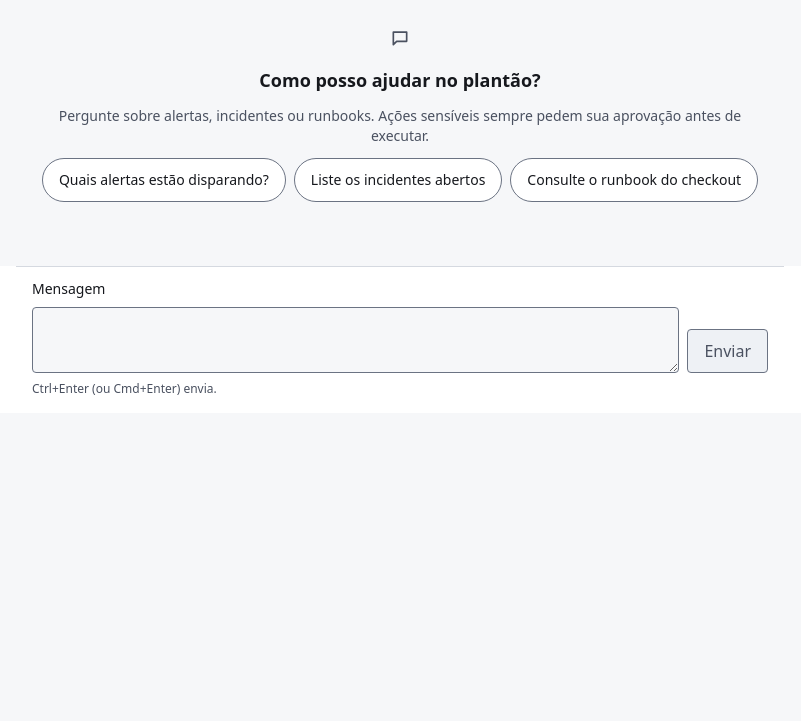
ApprovalCard › 409 already decided shows the final state without buttons
In the text box labelled "Mensagem": (356, 340) [32,307,679,373], type "resolva o inc-1"
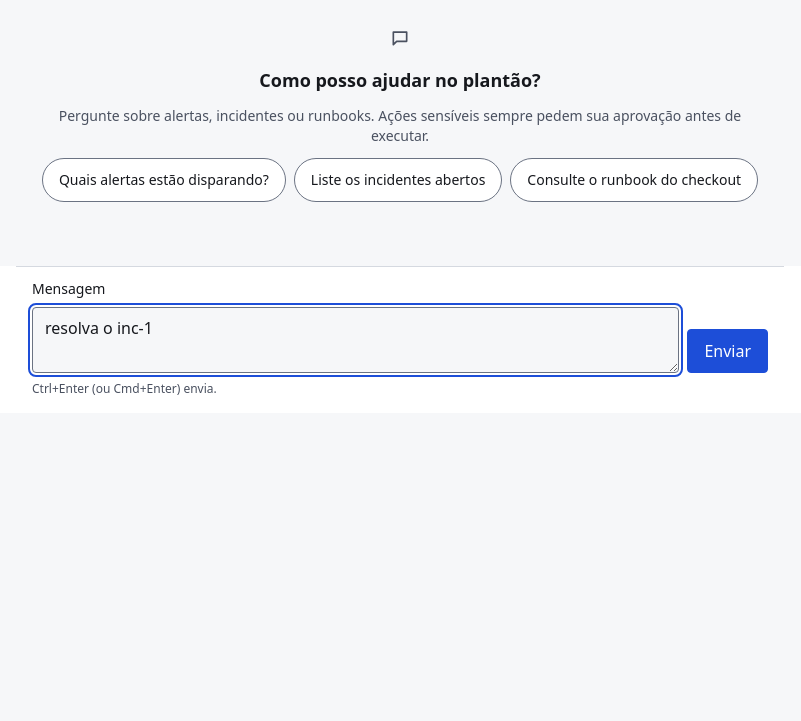
Click the button "Enviar": (728, 351) [687,329,768,373]
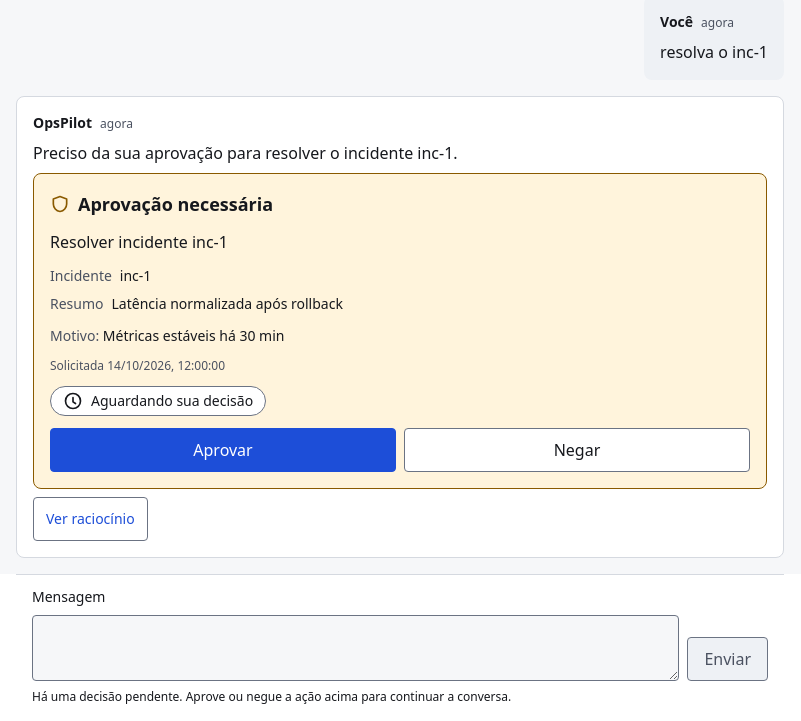
Click the button "Aprovar": (223, 450) [50,428,396,472]
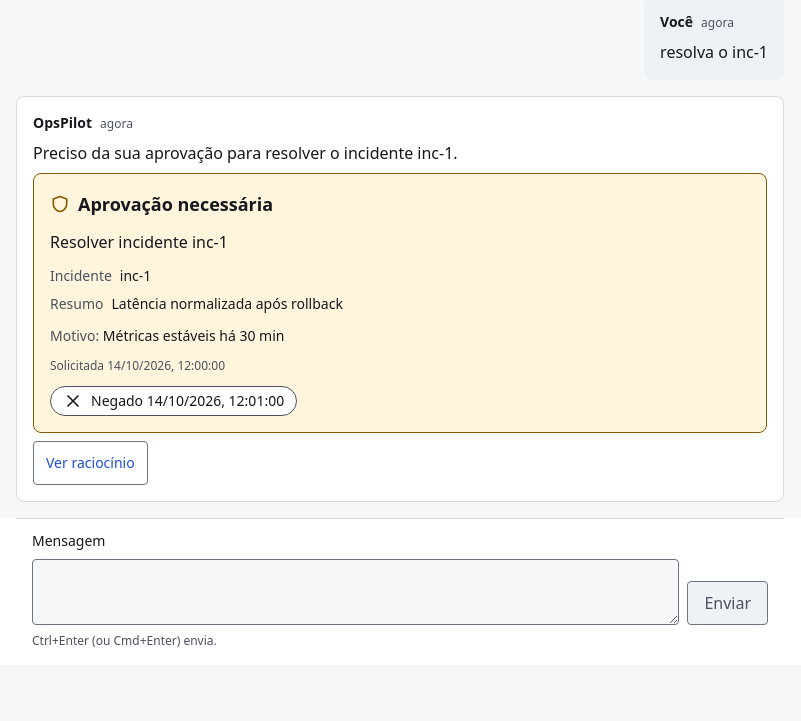
Now the text "Negado" is shown, box [91,391,143,410]
Now the button "Aprovar" is gone
Now the button "Negar" is gone
